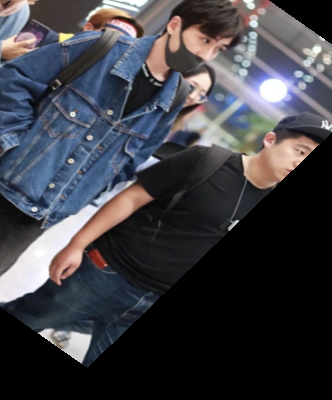mask_weared_incorrect: (151, 1, 250, 76)
